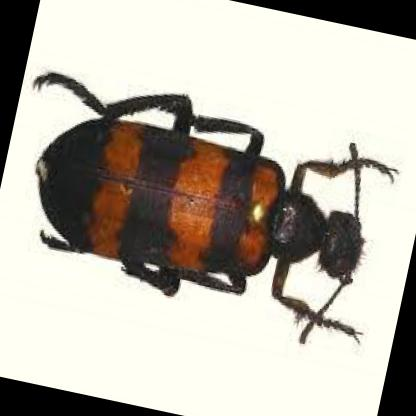blister beetle: (34, 72, 392, 337)
